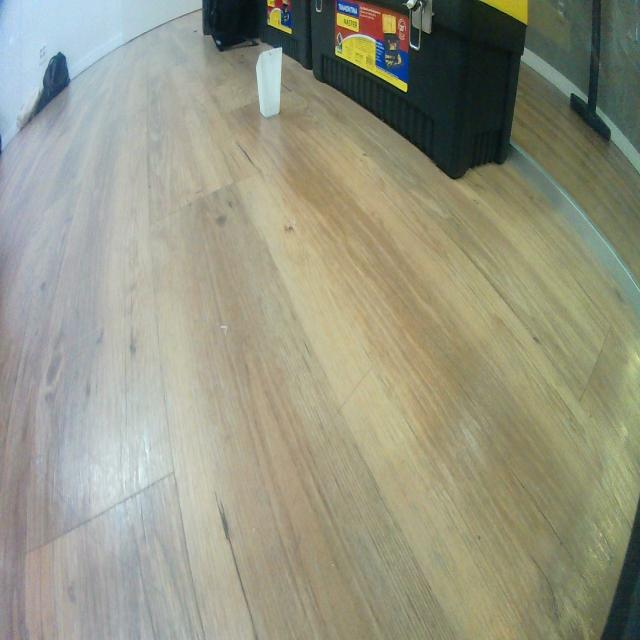erva_daninha: (255, 48, 283, 119)
